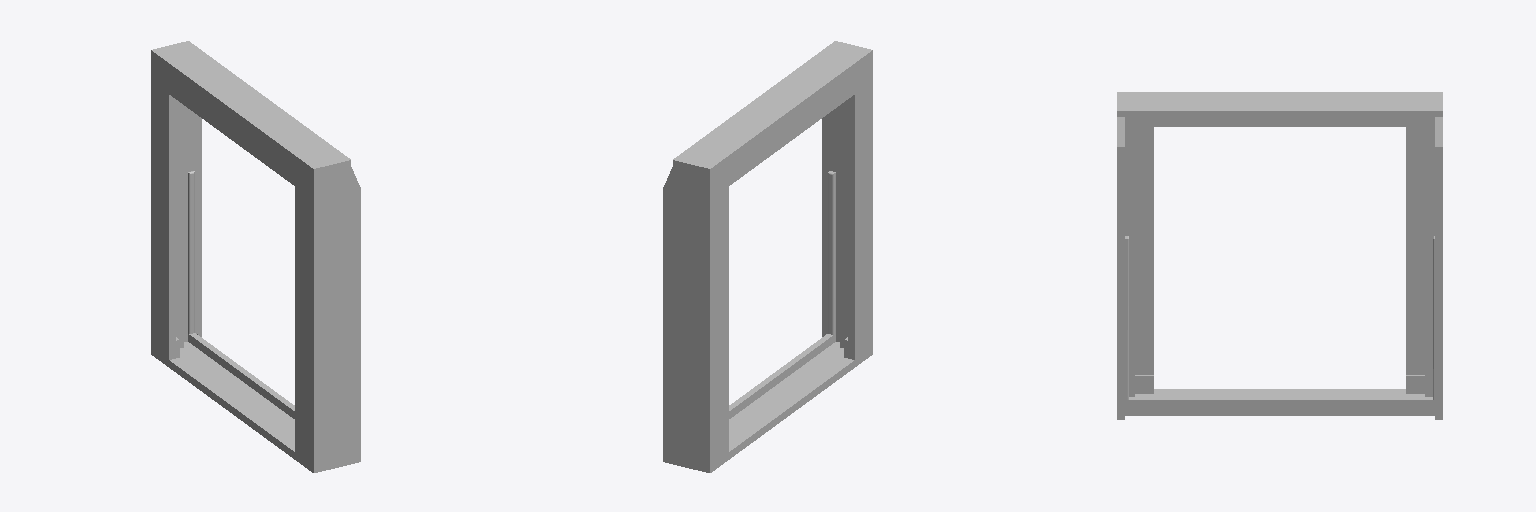
File: Prints_led_cap.obj
3 views of the same model, side by side, from view 1: azimuth 30°, elevation 25°; view 2: azimuth 150°, elevation 25°; view 3: azimuth 270°, elevation 25° (orthographic).
Parts seen in each view (by area): view 1: led_cap; view 2: led_cap; view 3: led_cap.
Boxes of the visible parts, box(x1,y1,x2,y2) form: led_cap: box(151, 41, 360, 472); led_cap: box(663, 41, 872, 472); led_cap: box(1117, 92, 1442, 419).
Bounding box in the file's own units: 0.0082 × 0.0503 × 0.0487.